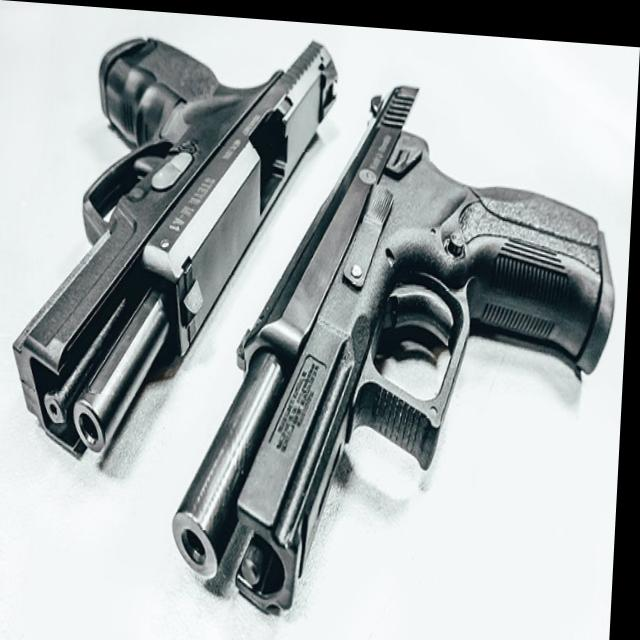handgun: (179, 61, 625, 627), (16, 20, 339, 460)
